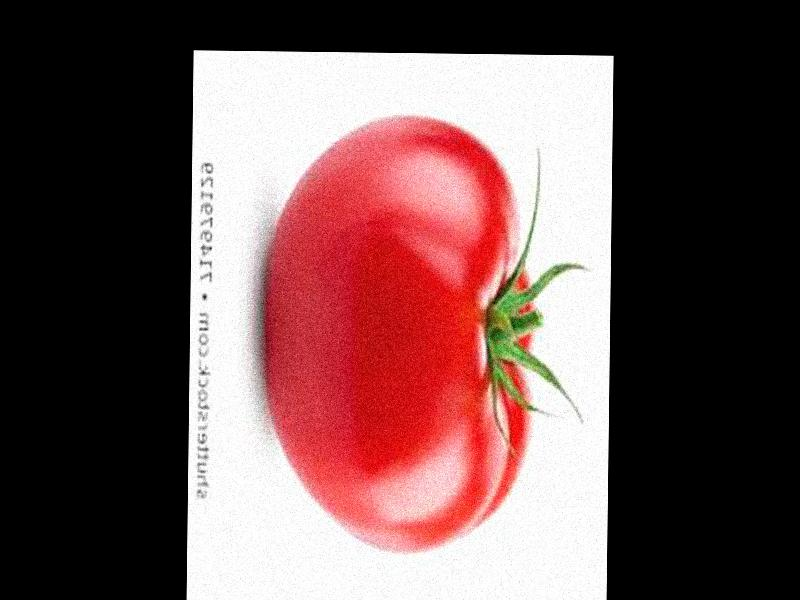Tomato: (264, 114, 532, 555)
